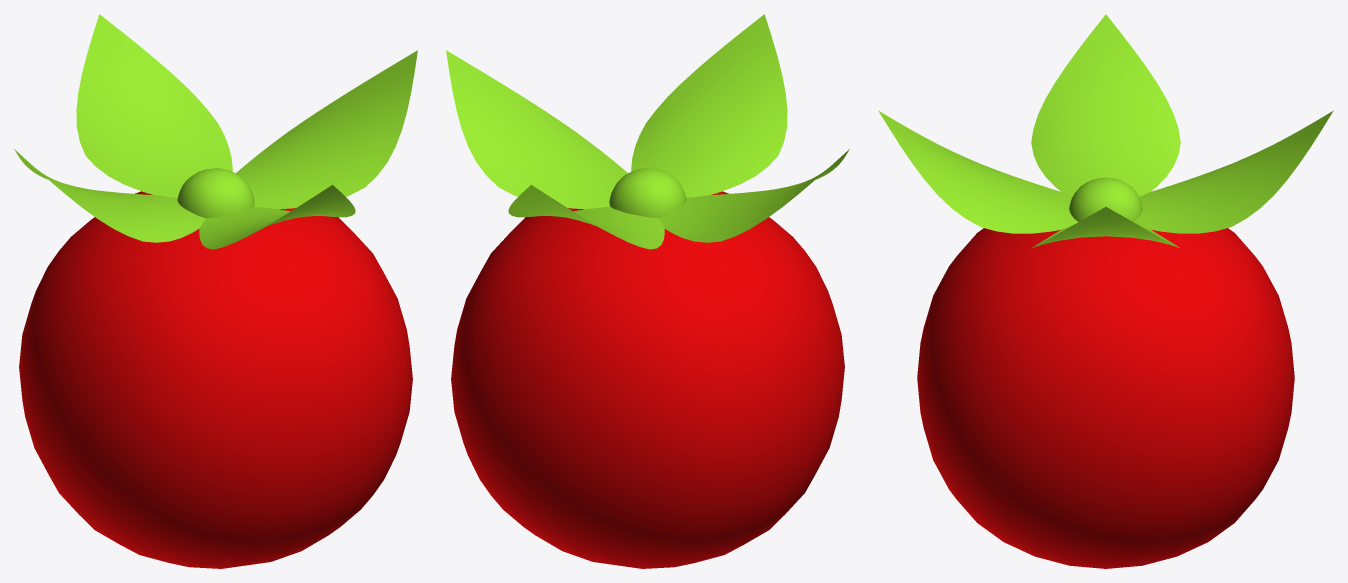
File: tomato.glb
3 renders of one model, left to right at view 1: azimuth 30°, elevation 25°; view 2: azimuth 150°, elevation 25°; view 3: azimuth 270°, elevation 25°, orthographic. The views are drawn at different scales.
Visible parts, largest first — view 1: Cube, 平面; view 2: Cube, 平面; view 3: Cube, 平面.
Boxes of the visible parts, x1,y1,x2,y2 form: Cube: [19, 191, 412, 568]; 平面: [14, 14, 417, 249]; Cube: [451, 191, 844, 568]; 平面: [446, 14, 849, 249]; Cube: [917, 228, 1294, 568]; 平面: [878, 14, 1333, 247].
Bounding box in the file's own units: 0.6081 × 0.6458 × 0.6081.
